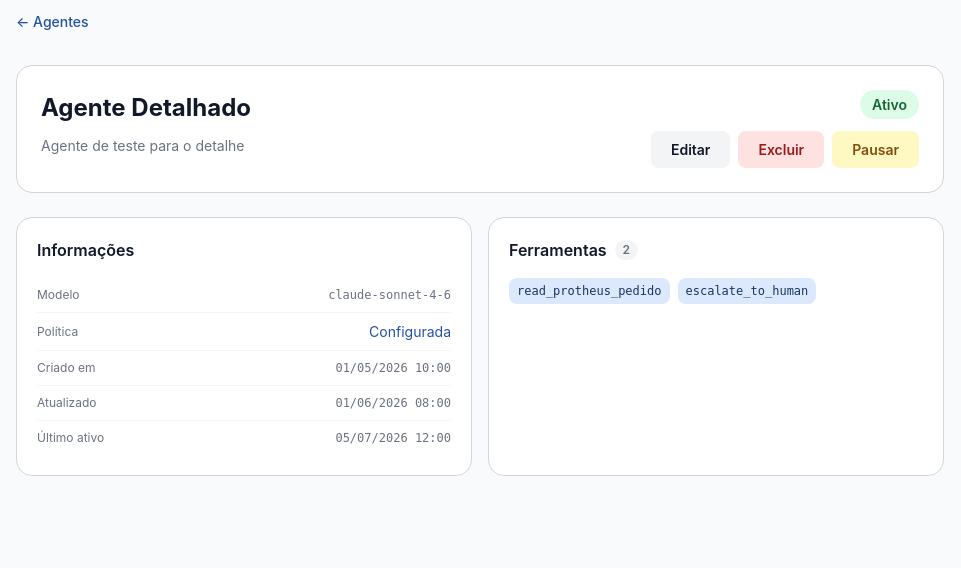
it: AgenteDetailComponent — pausar › exibe erro quando POST /pause falha
Click the button with class "agente-detail__btn--pausar" at (876, 150), box 832,131 -> 919,168
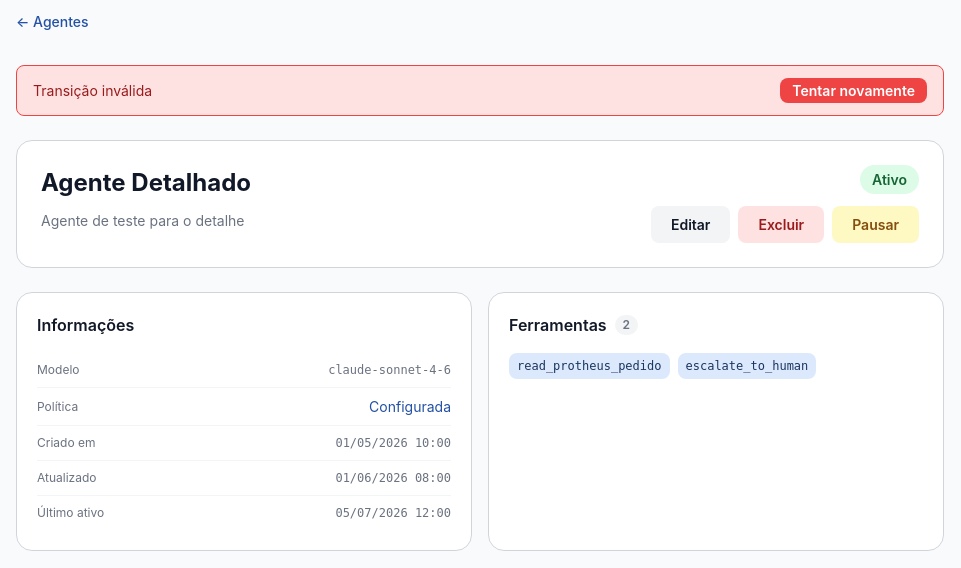
Now the message "Transição inválida Tentar novamente" is shown, box 16,65 -> 944,116
